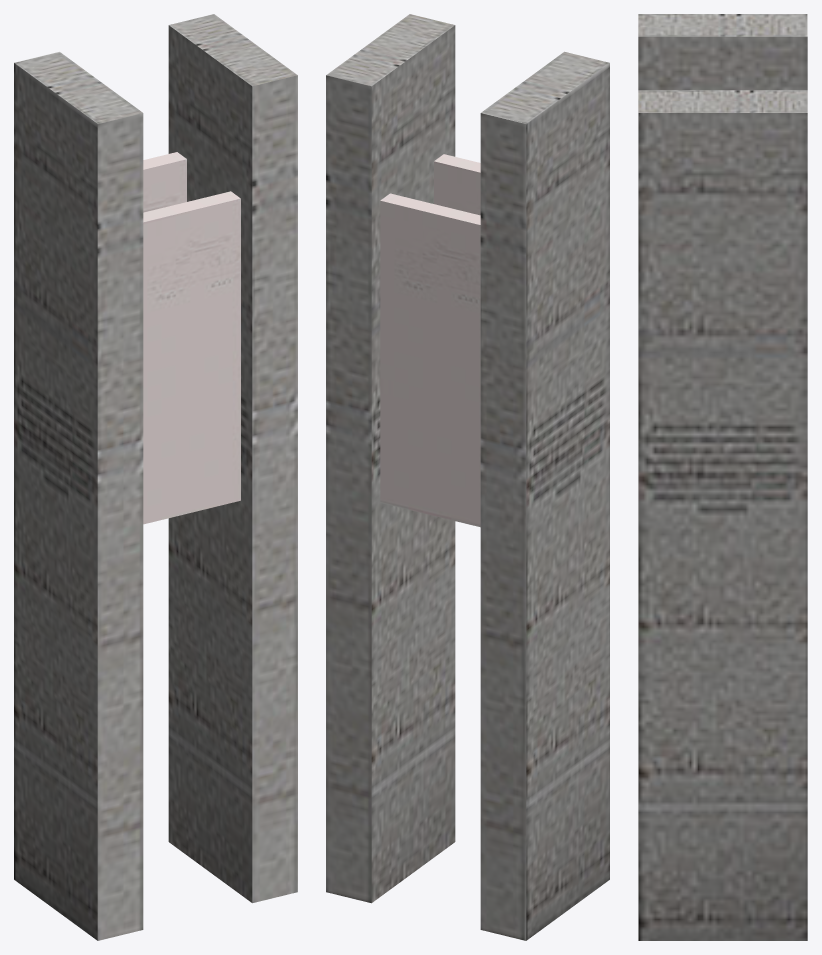
The model's file is Estatuaplaza.fbx.
3 views of the same model, side by side, from view 1: azimuth 30°, elevation 25°; view 2: azimuth 150°, elevation 25°; view 3: azimuth 270°, elevation 25° (orthographic).
Parts seen in each view (by area): view 1: Cube.003; view 2: Cube.003; view 3: Cube.003.
Part boxes in pixels (bbox=[...]): Cube.003: bbox=[14, 14, 297, 940]; Cube.003: bbox=[326, 14, 609, 940]; Cube.003: bbox=[638, 14, 807, 940].
Bounding box in the file's own units: 51.33 × 200 × 37.19.
4 materials, 4 textured.
